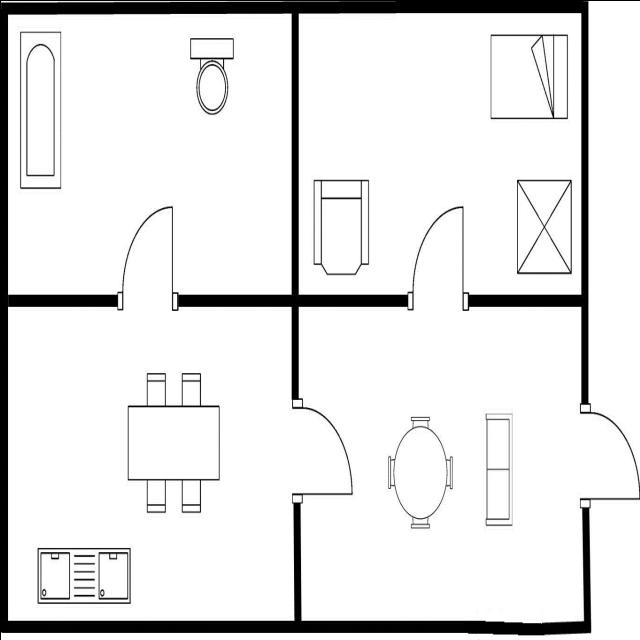armchair: (308, 175, 372, 281)
bed: (487, 29, 570, 123)
coffee_table: (513, 174, 575, 278)
dining_table: (123, 370, 223, 518)
large_sink: (185, 30, 237, 120)
large_sofa: (482, 408, 514, 531)
round_table: (386, 411, 454, 533)
tub: (16, 27, 66, 198)
twin_sink: (34, 544, 132, 608)
